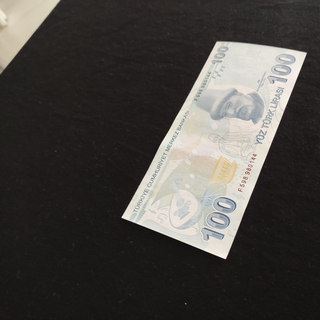100TLBack: (121, 40, 307, 259)
